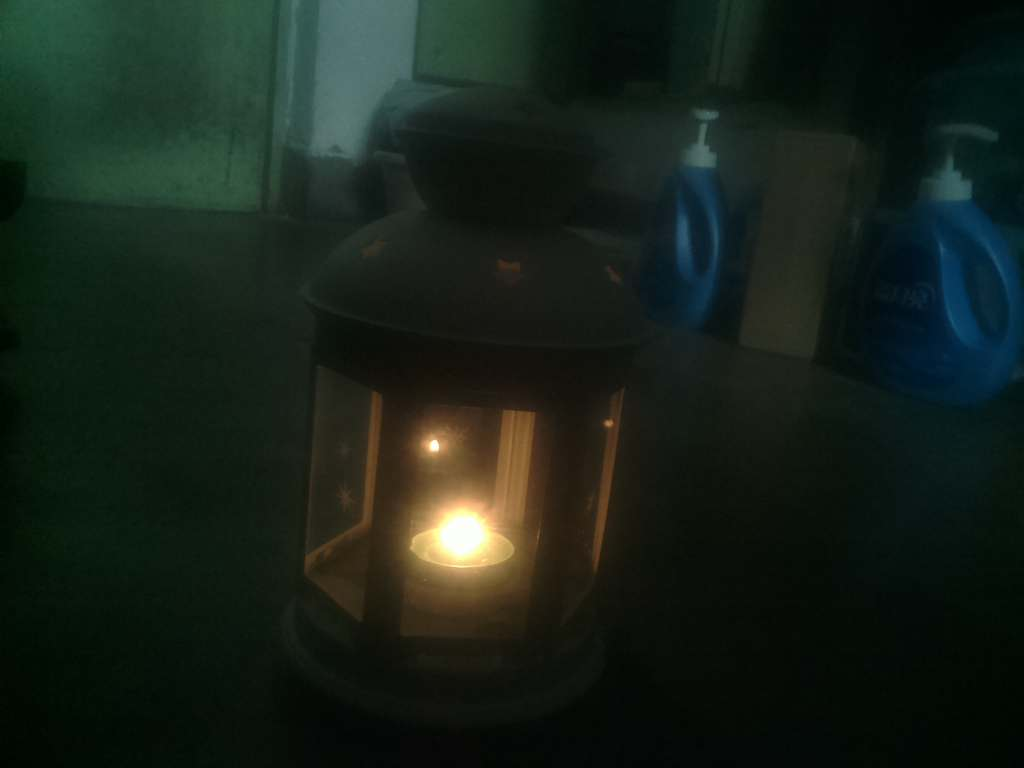fire: (412, 488, 524, 590)
